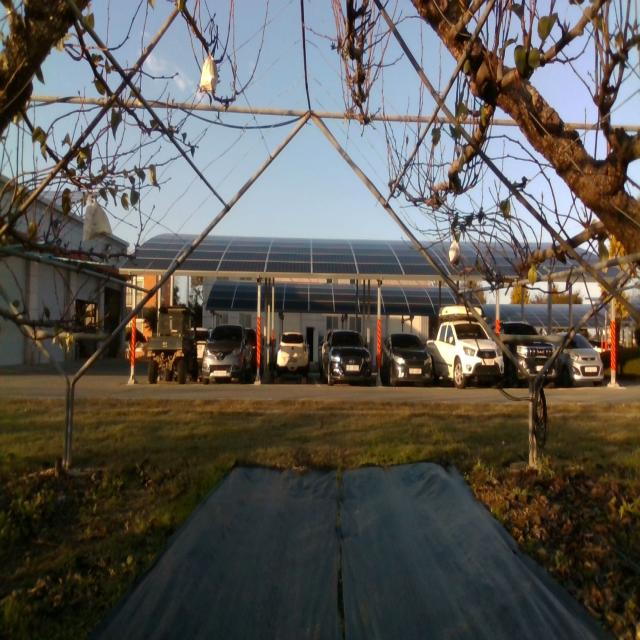pearbags: (83, 203, 112, 241), (198, 54, 218, 92), (449, 240, 460, 265)
